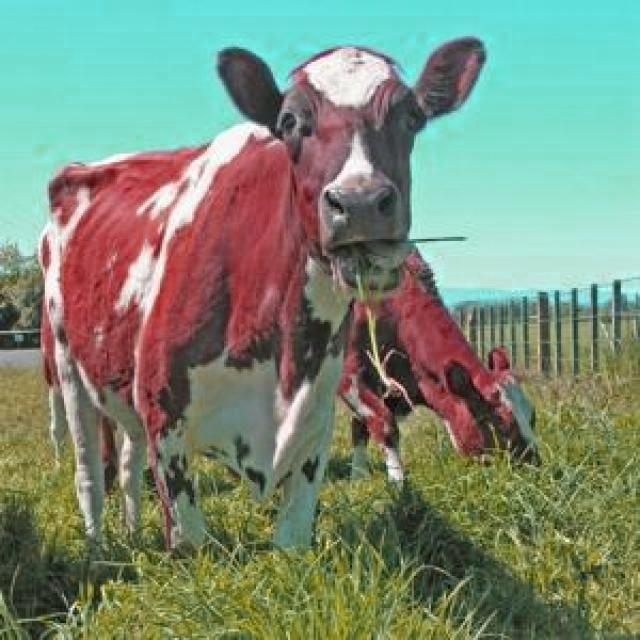cow: (40, 38, 485, 548), (339, 250, 538, 482)
